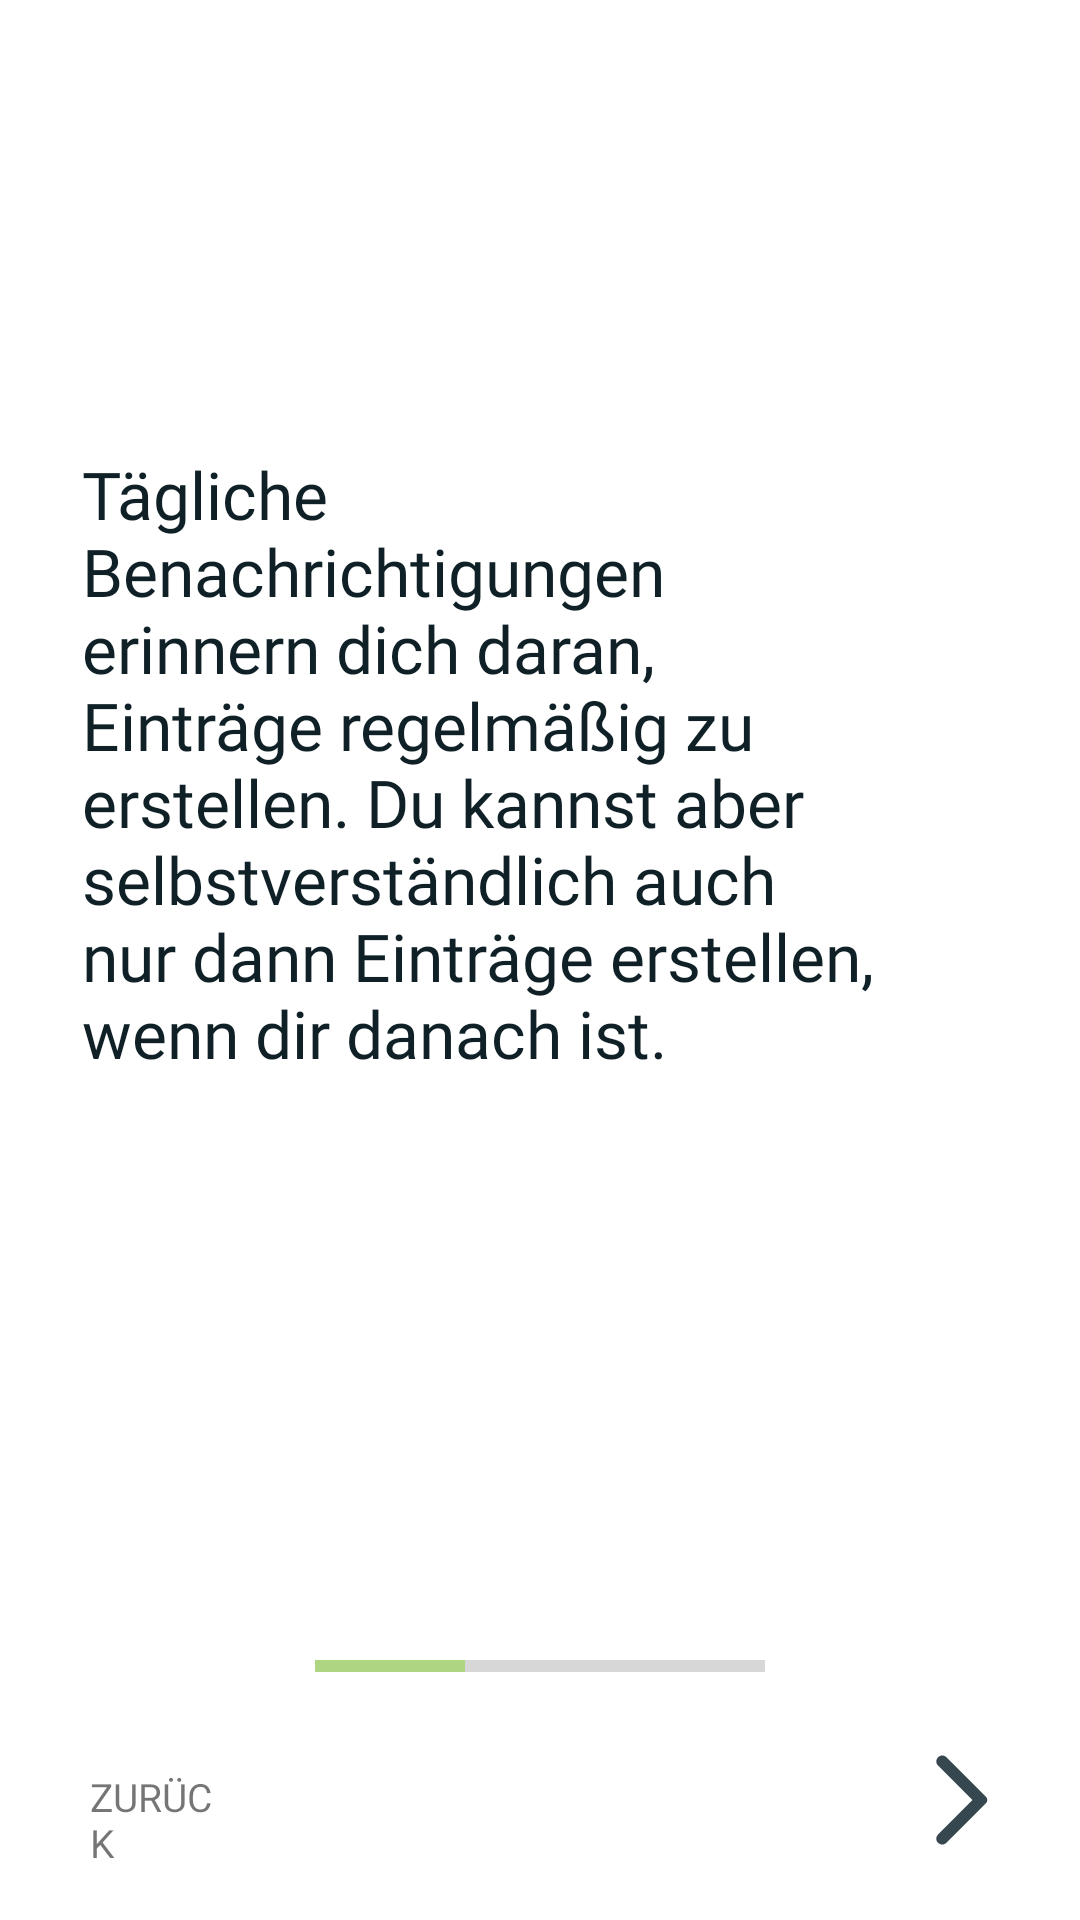

Screen size 1080×1920. Icon name, then its center in pixels as point (x, y):
weiter: point (962, 1800)
